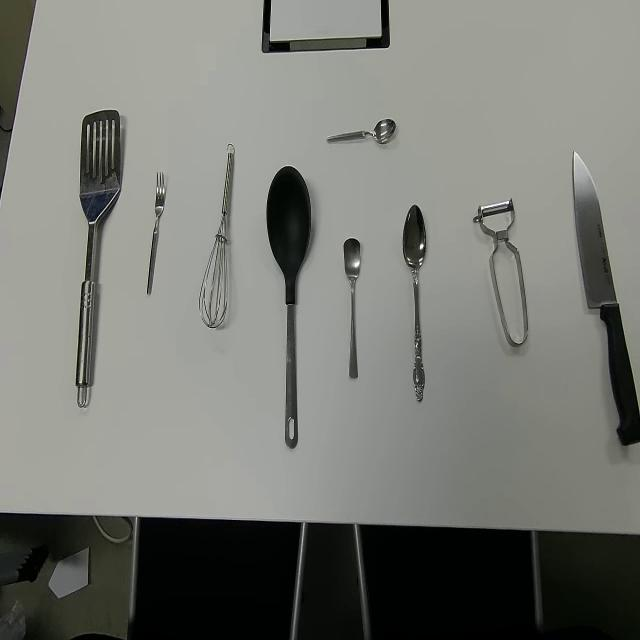Desert-Spoon: (402, 202, 427, 404)
Dinner-Fork: (145, 170, 165, 298)
Kitchen-Knife: (572, 148, 640, 448)
Peeler: (471, 196, 529, 348)
Serving-Spoon: (75, 107, 122, 409), (265, 163, 312, 449)
Tea-Spoon: (342, 236, 361, 380), (325, 117, 397, 146)
Whisk: (198, 142, 235, 330)
